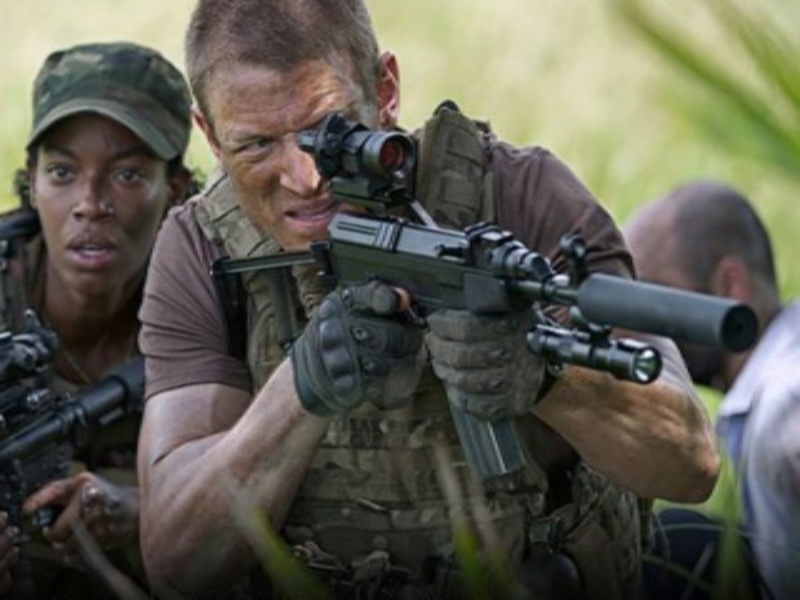person: (137, 1, 721, 600), (1, 44, 193, 600), (626, 181, 800, 600)
weapon: (211, 113, 760, 483), (1, 308, 147, 544)
